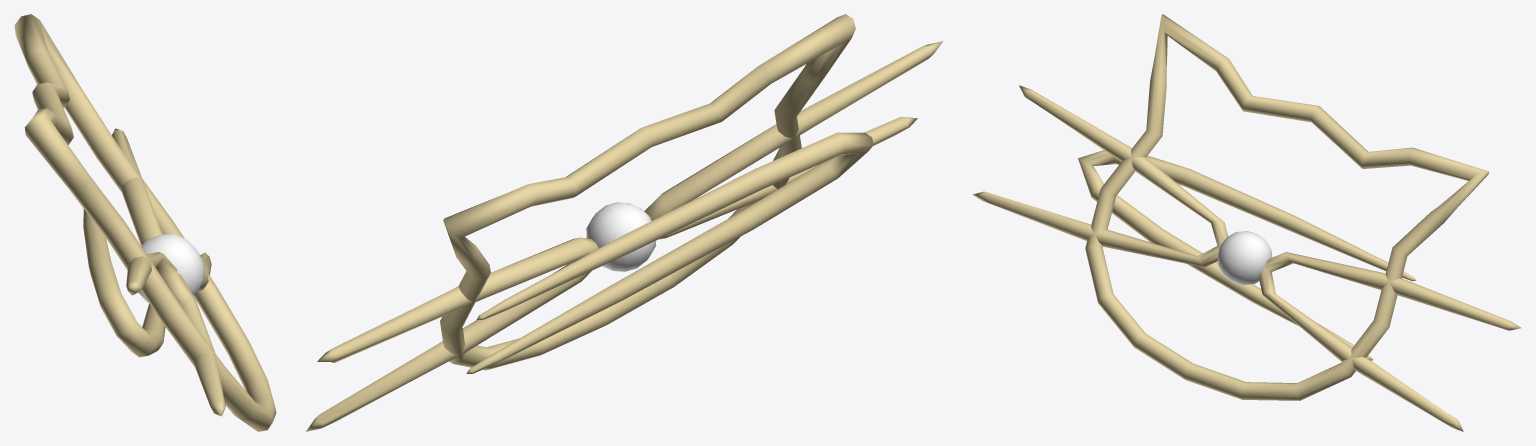
3 views of the same model, side by side, from view 1: azimuth 30°, elevation 25°; view 2: azimuth 150°, elevation 25°; view 3: azimuth 270°, elevation 25° (orthographic). The views are drawn at different scales.
Parts seen in each view (by area): view 1: cat_head_hair_clip; view 2: cat_head_hair_clip; view 3: cat_head_hair_clip.
Part boxes in pixels (bbox=[...]): cat_head_hair_clip: bbox=[14, 14, 276, 431]; cat_head_hair_clip: bbox=[306, 14, 943, 431]; cat_head_hair_clip: bbox=[972, 14, 1520, 431].
Size of the model in its own units: 0.266 by 0.2572 by 0.4482.
